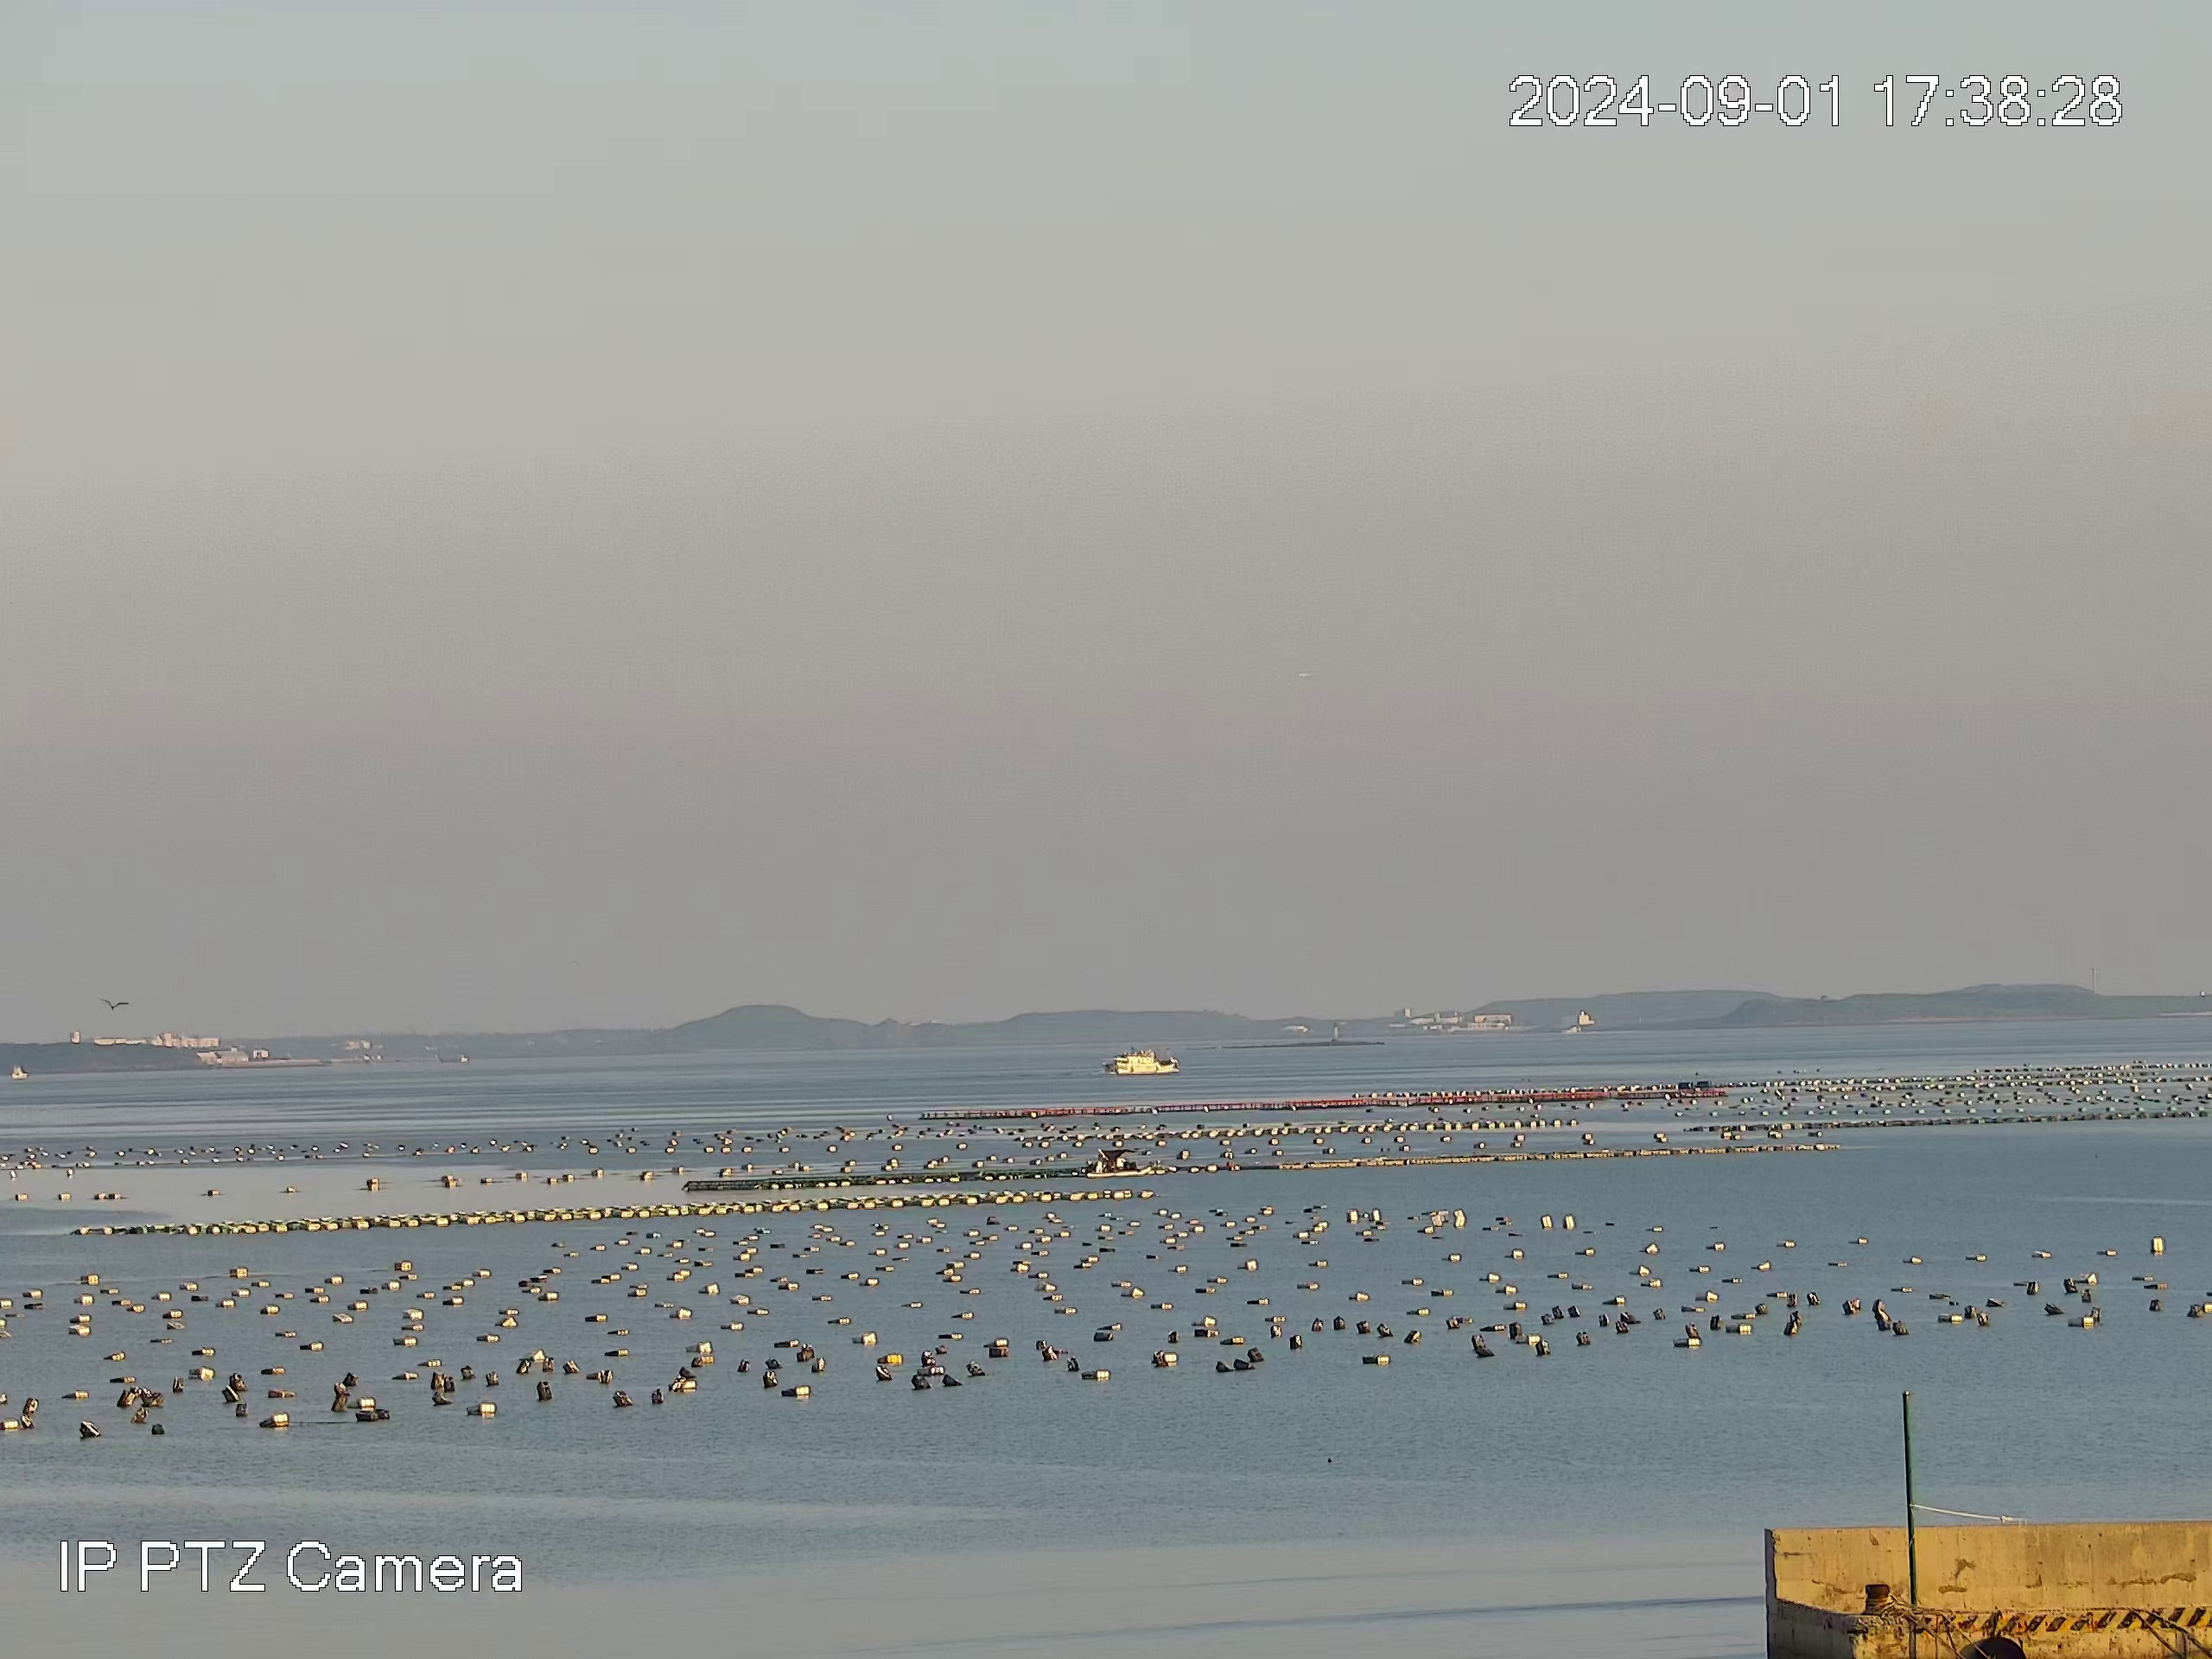boat: (1101, 1042, 1183, 1073), (1089, 1143, 1155, 1180)
